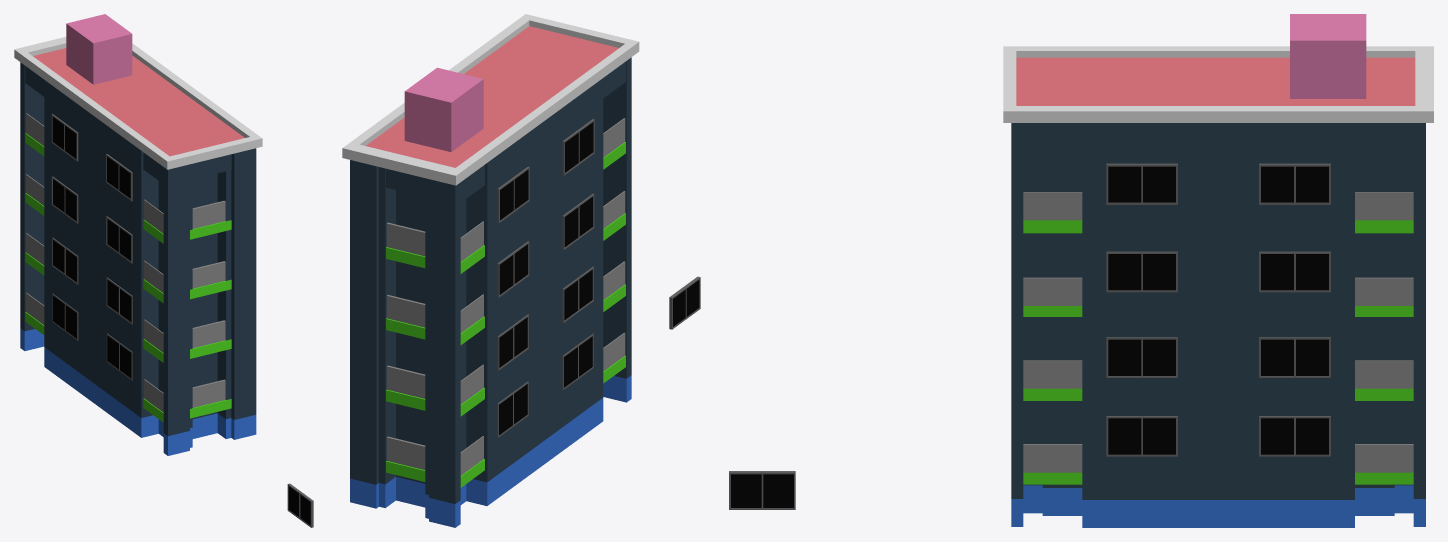
The model's file is BuildingNew.fbx.
3 views of the same model, side by side, from view 1: azimuth 30°, elevation 25°; view 2: azimuth 150°, elevation 25°; view 3: azimuth 270°, elevation 25° (orthographic). The views are drawn at different scales.
Visible parts, largest first — view 1: mainBuildingTop, TopGround, BalconeyRail, verytop, BottomBase, windowGlass, exit, balconyBase, WindowFrame; view 2: mainBuildingTop, TopGround, BalconeyRail, verytop, BottomBase, windowGlass, exit, balconyBase, WindowFrame; view 3: mainBuildingTop, windowGlass, TopGround, BottomBase, BalconeyRail, verytop, exit, balconyBase, WindowFrame.
Part boxes in pixels (x1,y1,x2,y2): mainBuildingTop: (20,62,256,435); TopGround: (33,48,244,156); BalconeyRail: (26,113,225,412); verytop: (14,37,262,169); BottomBase: (20,328,313,527); windowGlass: (52,117,131,378); exit: (66,14,132,84); balconyBase: (25,133,231,422); WindowFrame: (51,114,132,380); mainBuildingTop: (350,57,631,503); TopGround: (366,26,618,167); BalconeyRail: (386,118,625,475); verytop: (342,14,639,185); BottomBase: (350,276,700,527); windowGlass: (499,122,593,435); exit: (404,67,483,152); balconyBase: (386,142,625,487); WindowFrame: (497,119,594,437); mainBuildingTop: (1011,123,1425,499); windowGlass: (1108,166,1328,454); TopGround: (1016,57,1415,105); BottomBase: (729,471,1425,527); BalconeyRail: (1023,192,1413,472); verytop: (1003,46,1433,122); exit: (1290,14,1366,98); balconyBase: (1023,220,1413,484); WindowFrame: (1106,163,1330,456).
Bounding box in the file's own units: 1001 × 3452 × 4577.
